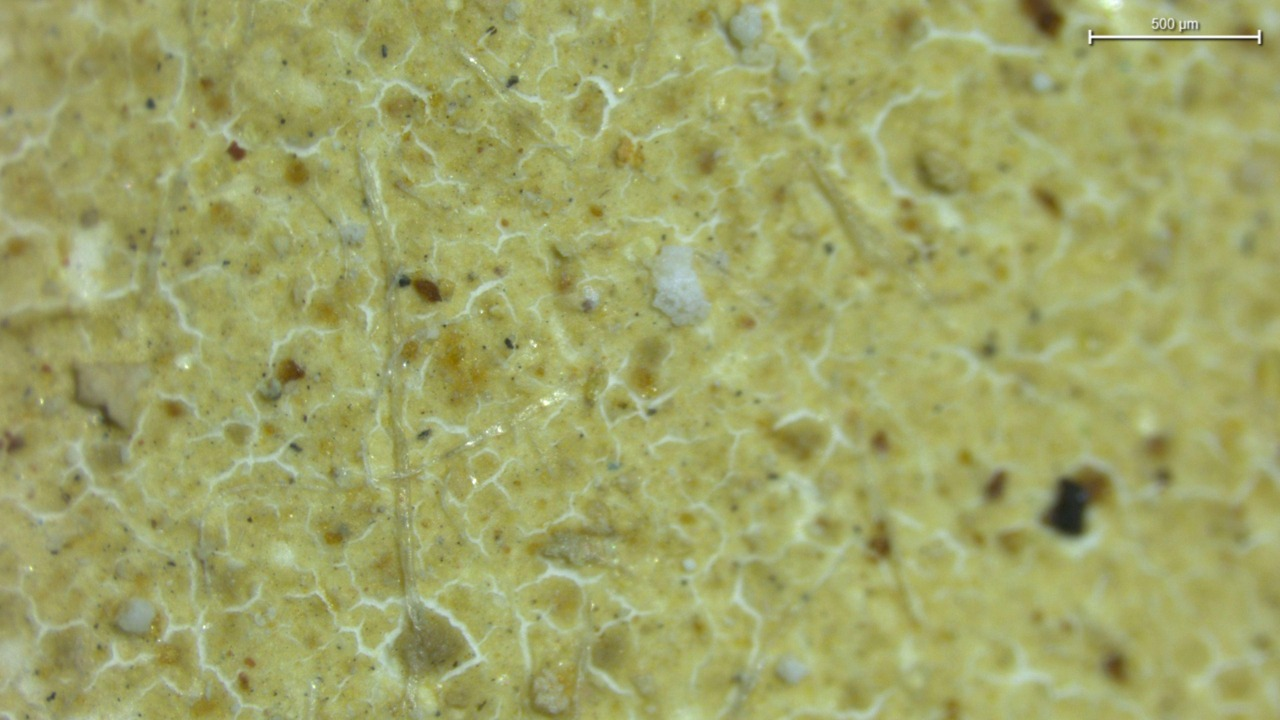microplastic_fragment: (74, 362, 150, 429), (652, 245, 710, 326), (728, 6, 762, 49), (117, 599, 155, 635)
